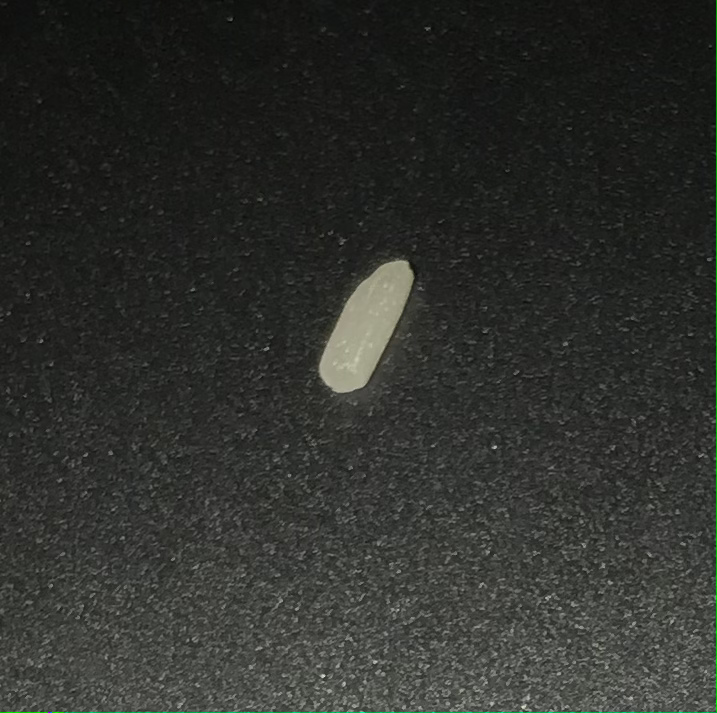Gao Tam Thom: (317, 246, 422, 411)
